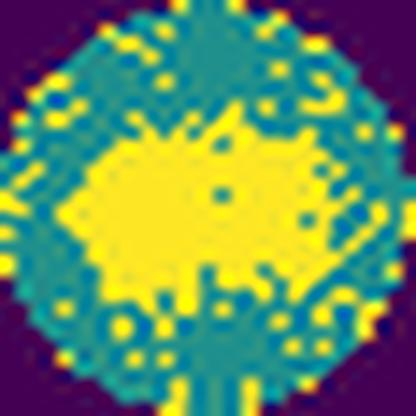Center: (54, 94, 384, 323)
